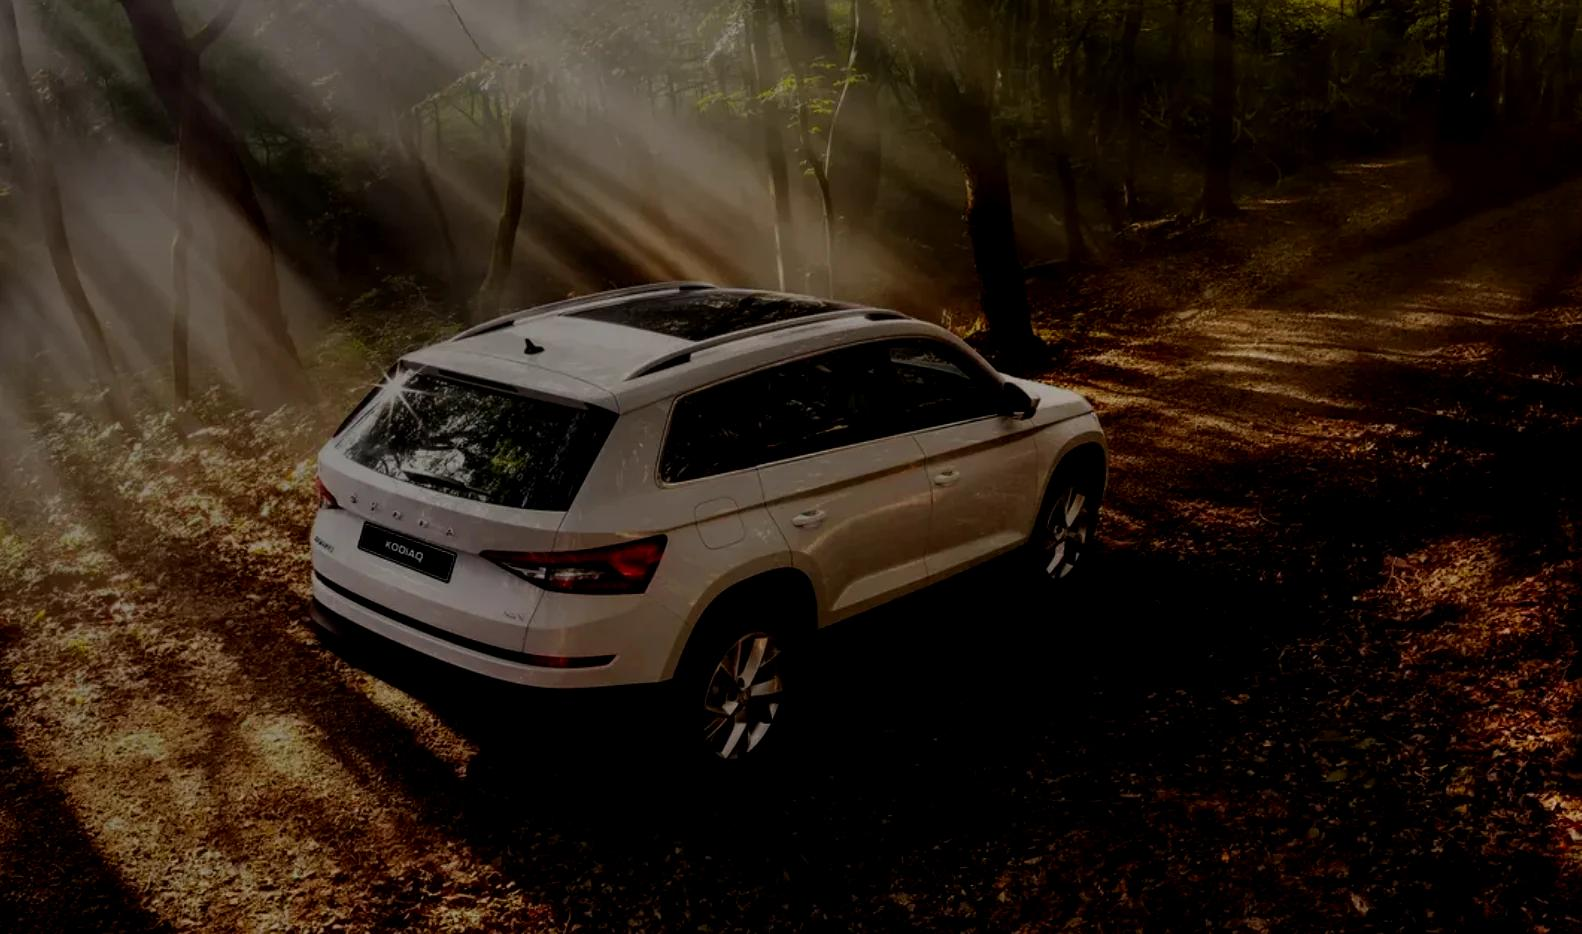skoda: (330, 478, 478, 549)
